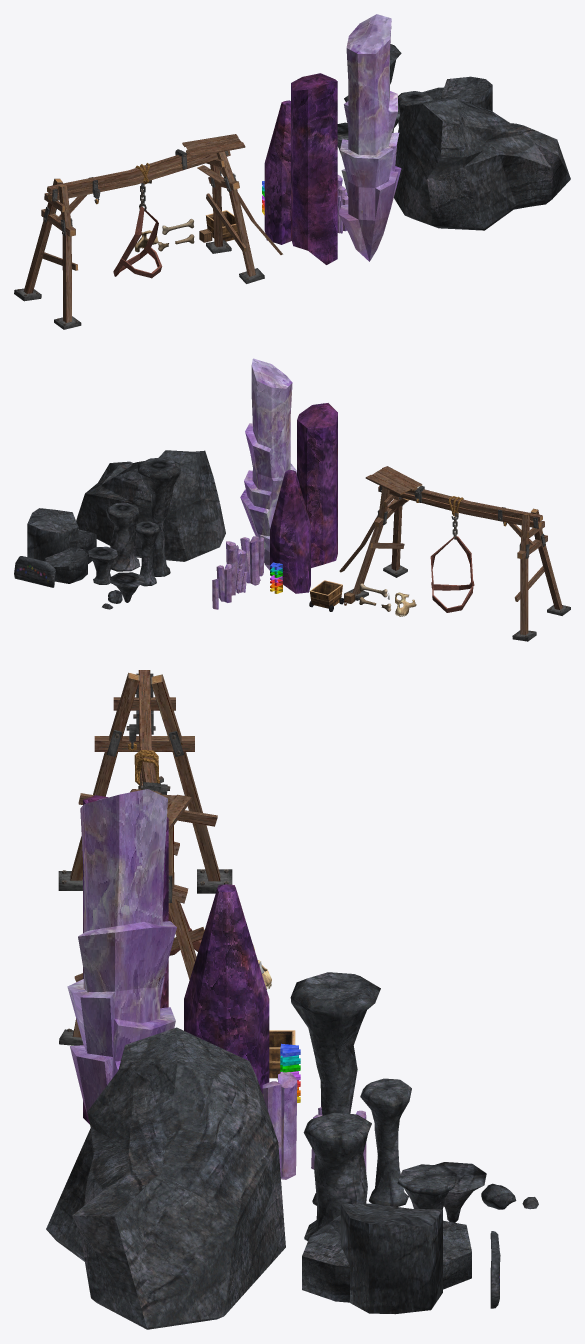
The model's file is GorillaTagCavesRevampAssets.fbx.
3 views of the same model, one above another, from view 1: azimuth 30°, elevation 25°; view 2: azimuth 150°, elevation 25°; view 3: azimuth 270°, elevation 25° (orthographic). The views are drawn at different scales.
Visible parts, largest first — view 1: C_Rock_XLarge, C_DarkCrystal_Big, C_Hoist_Base_Wood, C_Crystal_broken_center, C_Crystal_broken_end_r, C_Hoist_Base_Metal, C_Rock_Large, C_Hoist_Base_Leather, C_Pillar_Med_Wide, Minecart, C_Crystal_Cluster_Large; view 2: C_Rock_XLarge, C_Hoist_Base_Wood, C_DarkCrystal_Big, C_Crystal_broken_center, C_Crystal_broken_end_r, C_Rock_Large, C_Pillar_Large, C_Pillar_Med_Wide, C_Hoist_Base_Metal, C_Pillar_Med, C_Petroglyph, C_Crystal_Cluster_Large (+6 smaller); view 3: C_Rock_XLarge, C_DarkCrystal_Big, C_Rock_Large, C_Crystal_broken_end_r, C_Hoist_Base_Wood, C_Pillar_Large, C_Pillar_Med_Wide, C_Pillar_Med, C_Hoist_Base_Metal, C_Crystal_Cluster_Medium, C_Pillar_Sm, C_Pillar_Stalactite (+1 smaller).
Part boxes in pixels (x1,y1,x2,y2): C_Rock_XLarge: [394, 97, 570, 230]; C_DarkCrystal_Big: [338, 14, 401, 261]; C_Hoist_Base_Wood: [23, 134, 282, 322]; C_Crystal_broken_center: [291, 73, 337, 264]; C_Crystal_broken_end_r: [264, 100, 291, 244]; C_Hoist_Base_Metal: [14, 149, 264, 329]; C_Rock_Large: [441, 76, 492, 111]; C_Hoist_Base_Leather: [113, 206, 162, 278]; C_Pillar_Med_Wide: [398, 91, 432, 126]; Minecart: [206, 210, 238, 241]; C_Crystal_Cluster_Large: [337, 175, 348, 233]; C_Rock_XLarge: [76, 450, 225, 561]; C_Hoist_Base_Wood: [339, 466, 562, 635]; C_DarkCrystal_Big: [240, 358, 296, 570]; C_Crystal_broken_center: [297, 403, 337, 567]; C_Crystal_broken_end_r: [270, 469, 310, 593]; C_Rock_Large: [27, 508, 96, 583]; C_Pillar_Large: [137, 457, 180, 576]; C_Pillar_Med_Wide: [105, 503, 140, 571]; C_Hoist_Base_Metal: [344, 485, 570, 641]; C_Pillar_Med: [134, 521, 160, 586]; C_Petroglyph: [14, 556, 55, 587]; C_Crystal_Cluster_Large: [240, 536, 264, 585]; C_Rock_XLarge: [46, 1027, 285, 1329]; C_DarkCrystal_Big: [67, 789, 176, 1119]; C_Rock_Large: [302, 1203, 471, 1314]; C_Crystal_broken_end_r: [184, 884, 269, 1093]; C_Hoist_Base_Wood: [70, 670, 220, 1037]; C_Pillar_Large: [290, 972, 380, 1205]; C_Pillar_Med_Wide: [303, 1112, 371, 1241]; C_Pillar_Med: [360, 1078, 411, 1206]; C_Hoist_Base_Metal: [58, 673, 232, 1045]; C_Crystal_Cluster_Medium: [262, 1072, 297, 1179]; C_Pillar_Sm: [397, 1164, 456, 1209]; C_Pillar_Stalactite: [434, 1162, 486, 1222].
Size of the model in its own units: 3610 by 1546 by 1648.
